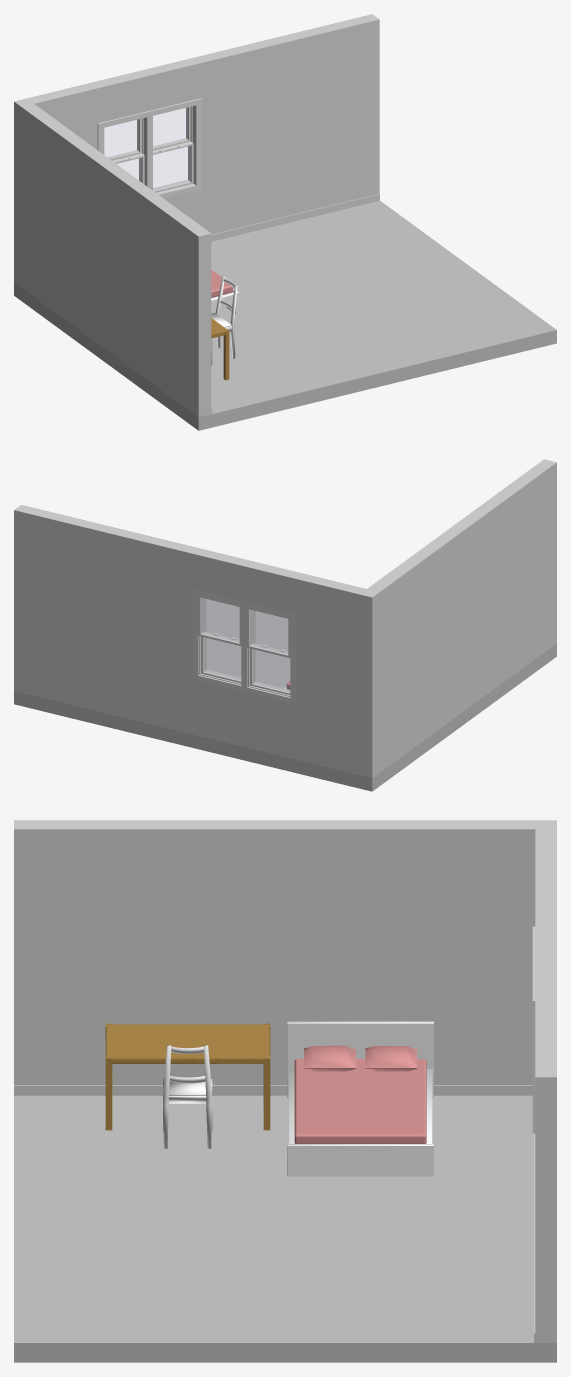
The model's file is L16_W18_furniture2_privacy3.glb.
3 renders of one model, top to bottom at view 1: azimuth 30°, elevation 25°; view 2: azimuth 150°, elevation 25°; view 3: azimuth 270°, elevation 25°, orthographic. The views are drawn at different scales.
Bounding box in the file's own units: 224 × 116 × 200.
